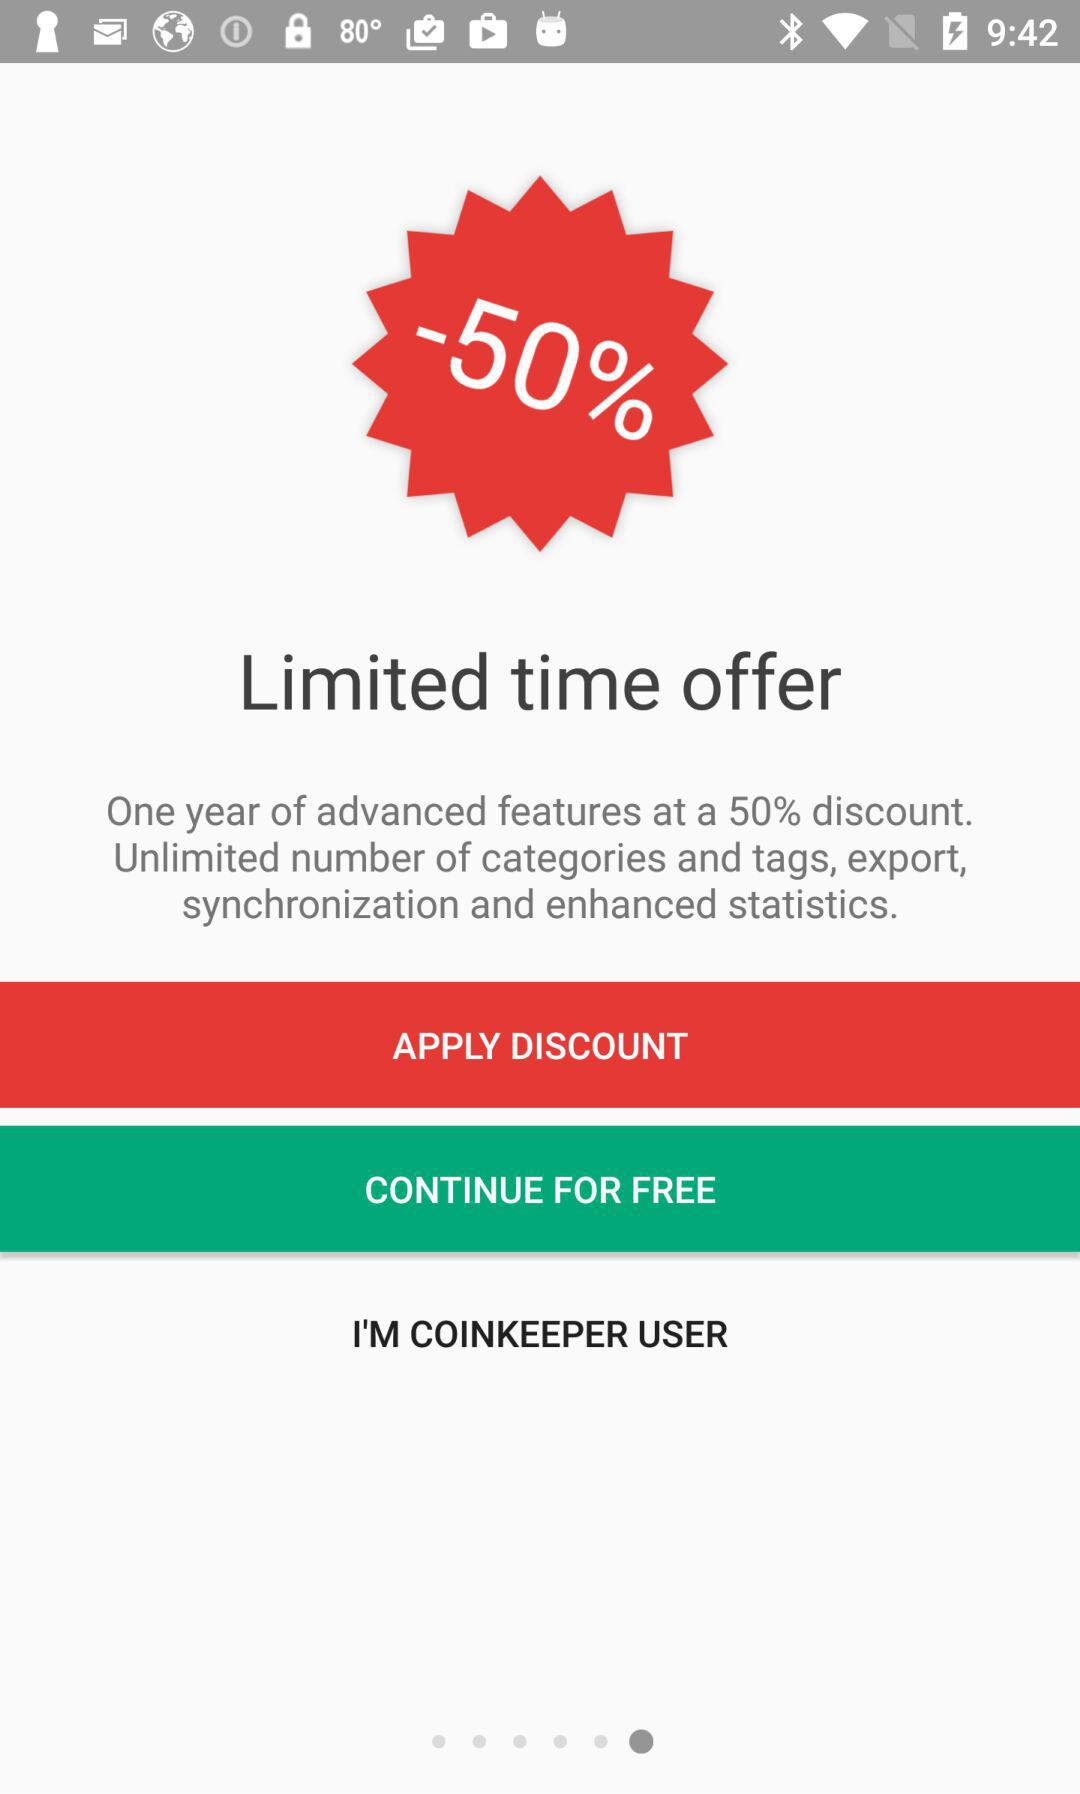Image: (351, 173, 732, 555)
PageIndicator: (430, 1727, 655, 1756)
Text: (106, 792, 972, 926), (241, 648, 843, 712), (354, 1319, 729, 1349)
TextButton: (1, 982, 1079, 1108), (1, 1126, 1079, 1252)
UpperTaskBar: (1, 1, 1080, 64)
